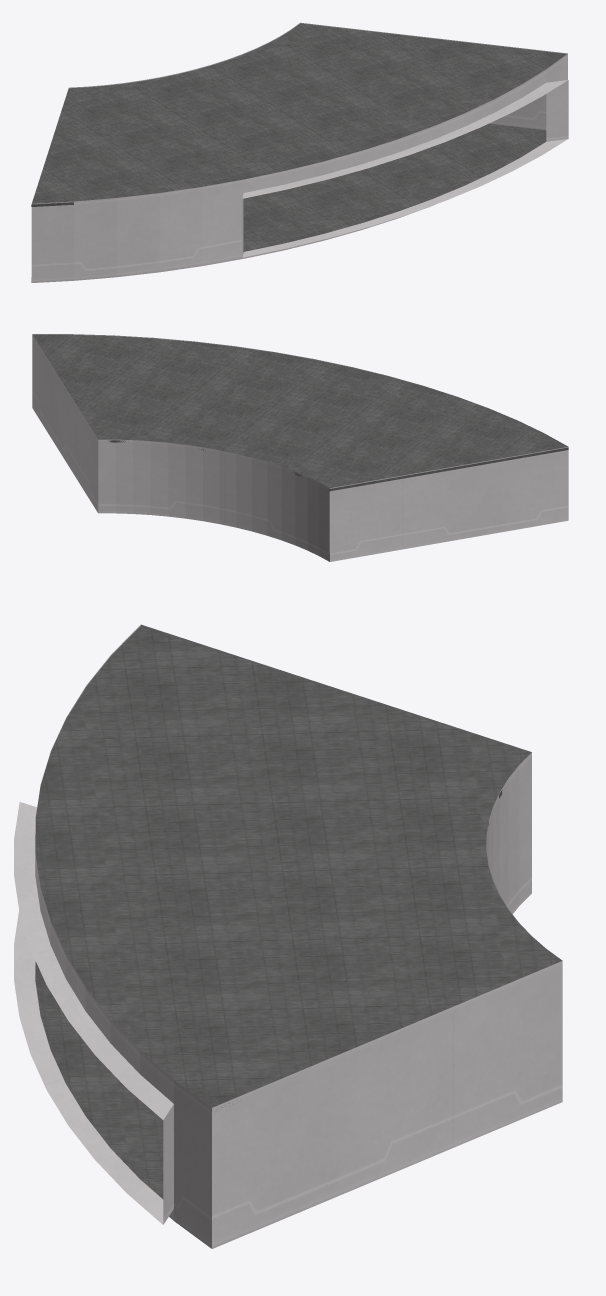
File: Dining_Environ.fbx
3 views of the same model, one above another, from view 1: azimuth 30°, elevation 25°; view 2: azimuth 150°, elevation 25°; view 3: azimuth 270°, elevation 25° (orthographic). The views are drawn at different scales.
Visible parts, largest first — view 1: DiningRoof, Dining; view 2: DiningRoof, Dining; view 3: DiningRoof, Dining.
Boxes of the visible parts, <box> form: DiningRoof: <box>31,23,566,206</box>; Dining: <box>31,22,568,282</box>; DiningRoof: <box>33,334,568,491</box>; Dining: <box>32,334,568,561</box>; DiningRoof: <box>35,626,561,1107</box>; Dining: <box>14,624,562,1248</box>.
Bounding box in the file's own units: 17.2 × 2.39 × 8.06.
